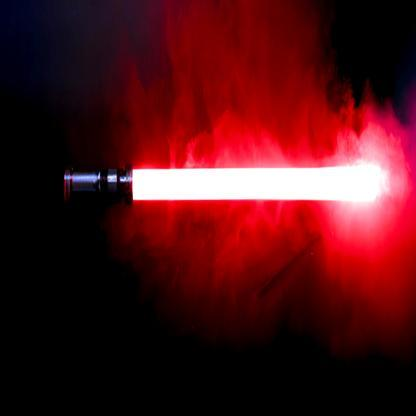sith_lightsaber: (9, 141, 416, 225)
